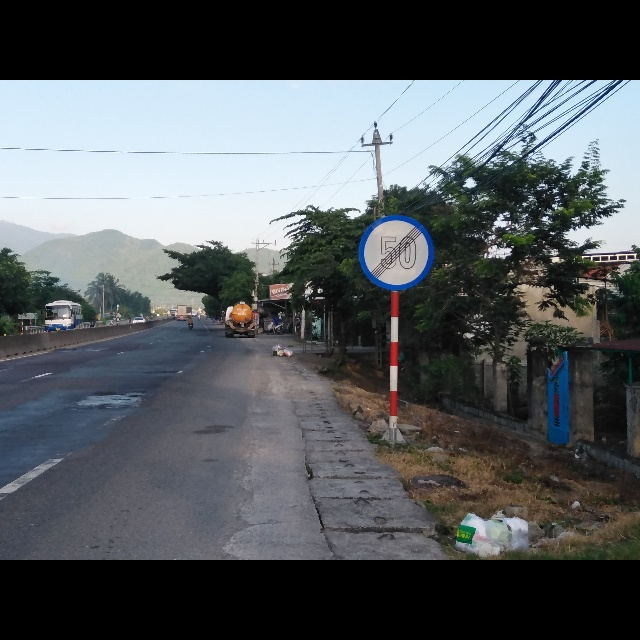Hết hạn chế tốc độ tối đa 50km/h: (357, 214, 435, 291)
